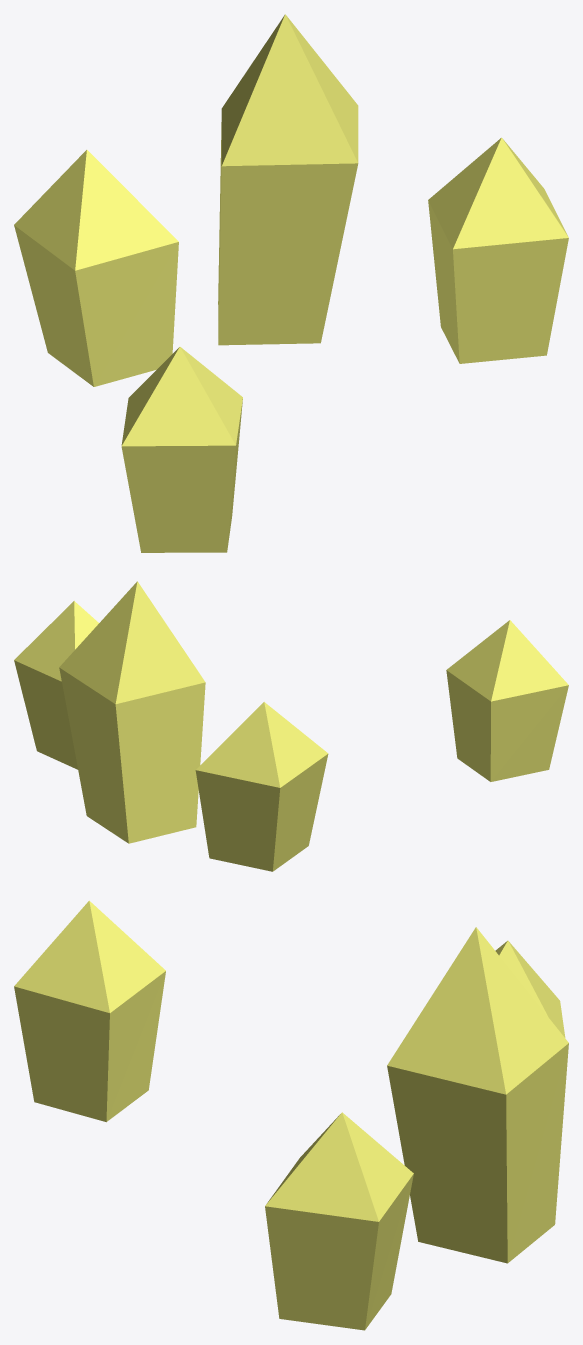
Rendered from crystal_aer_3.obj.
3 views of the same model, one above another, from view 1: azimuth 30°, elevation 25°; view 2: azimuth 150°, elevation 25°; view 3: azimuth 270°, elevation 25° (orthographic). The views are drawn at different scales.
Parts seen in each view (by area): view 1: s016, s017, s014, s015; view 2: s016, s017, s015, s014; view 3: s016, s015, s014, s017.
Part boxes in pixels (left/top/right/bottom): s016: left=218, top=14, right=358, bottom=345; s017: left=14, top=150, right=178, bottom=386; s014: left=428, top=137, right=568, bottom=363; s015: left=121, top=347, right=242, bottom=552; s016: left=59, top=581, right=205, bottom=843; s017: left=195, top=702, right=328, bottom=871; s015: left=446, top=620, right=568, bottom=781; s014: left=14, top=601, right=98, bottom=769; s016: left=387, top=927, right=568, bottom=1263; s015: left=14, top=900, right=165, bottom=1122; s014: left=265, top=1112, right=413, bottom=1330; s017: left=495, top=940, right=565, bottom=1037.
Bounding box in the file's own units: 0.8279 × 0.4254 × 0.6865.
